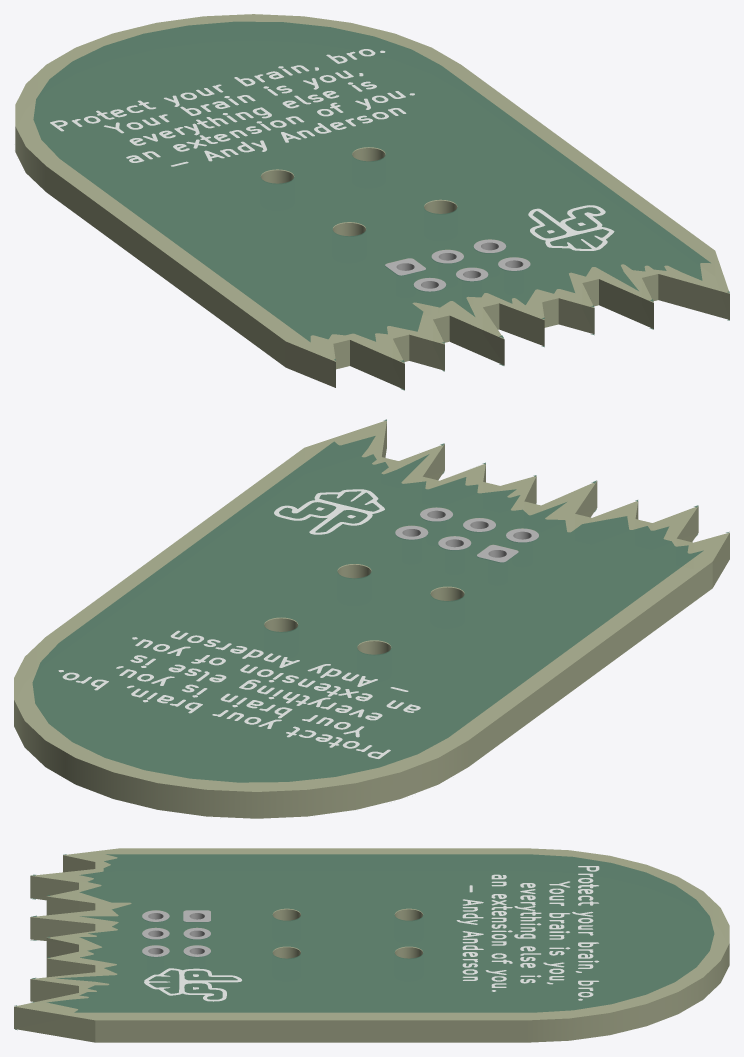
Rendered from skate-sao.glb.
3 views of the same model, one above another, from view 1: azimuth 30°, elevation 25°; view 2: azimuth 150°, elevation 25°; view 3: azimuth 270°, elevation 25° (orthographic). The views are drawn at different scales.
Parts seen in each view (by area): view 1: =>[0:1:1:8], =>[0:1:1:6], =>[0:1:1:4], =>[0:1:1:2]; view 2: =>[0:1:1:8], =>[0:1:1:6], =>[0:1:1:4], =>[0:1:1:2]; view 3: =>[0:1:1:8], =>[0:1:1:6], =>[0:1:1:4], =>[0:1:1:2].
Part boxes in pixels (bbox=[...]): =>[0:1:1:8]: bbox=[15, 14, 729, 389]; =>[0:1:1:6]: bbox=[33, 21, 729, 390]; =>[0:1:1:4]: bbox=[50, 49, 614, 250]; =>[0:1:1:2]: bbox=[385, 239, 530, 291]; =>[0:1:1:8]: bbox=[14, 420, 729, 818]; =>[0:1:1:6]: bbox=[32, 419, 729, 782]; =>[0:1:1:4]: bbox=[58, 489, 420, 758]; =>[0:1:1:2]: bbox=[395, 507, 538, 562]; =>[0:1:1:8]: bbox=[14, 848, 729, 1042]; =>[0:1:1:6]: bbox=[14, 854, 714, 1030]; =>[0:1:1:4]: bbox=[144, 866, 599, 1001]; =>[0:1:1:2]: bbox=[142, 910, 210, 956].
Bounding box in the file's own units: 0.025 × 0.00166 × 0.044.
Materials: 4 (4 with a texture image).
